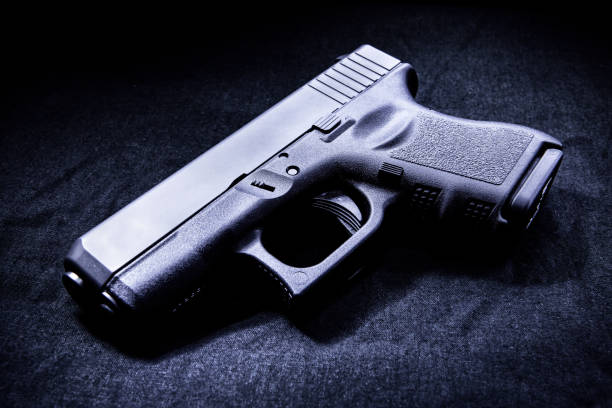pistol: (63, 40, 573, 339)
